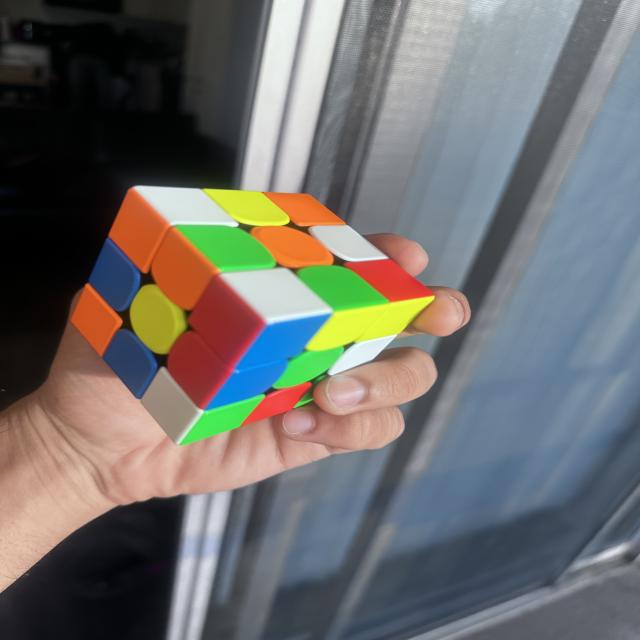sticker: (200, 268, 333, 371), (321, 260, 433, 350), (293, 266, 390, 351), (189, 277, 268, 364), (151, 229, 225, 312), (176, 224, 275, 284), (193, 349, 287, 411), (167, 330, 240, 408), (107, 188, 172, 275), (139, 369, 202, 444), (132, 184, 237, 228), (128, 282, 189, 356), (346, 257, 433, 307), (178, 394, 262, 444), (69, 284, 124, 358), (101, 330, 158, 401), (249, 223, 334, 270), (86, 242, 141, 314), (202, 188, 290, 228), (241, 380, 314, 428), (309, 222, 391, 263), (271, 345, 343, 390), (264, 190, 346, 228)
